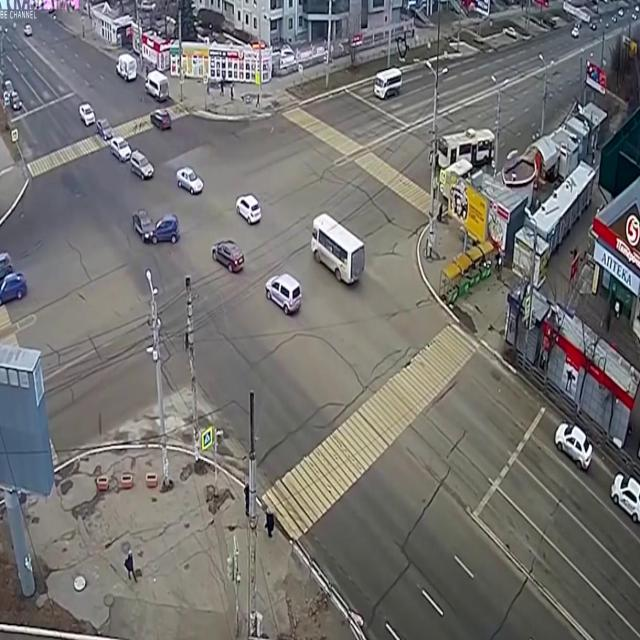accident: (128, 198, 186, 266)
non_accident: (79, 96, 161, 192), (0, 244, 33, 310)
